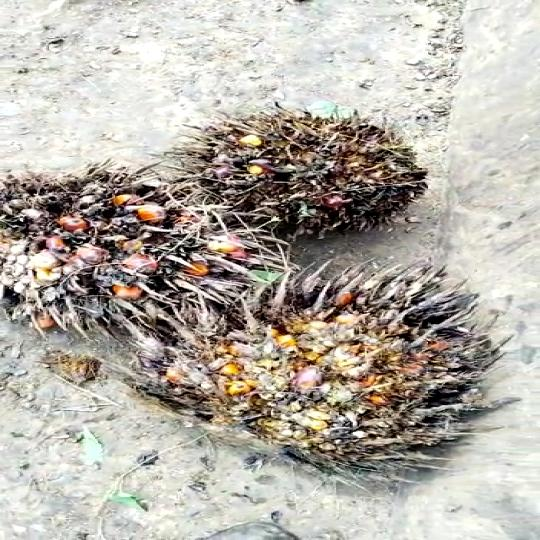terlalu masak: (141, 268, 519, 473), (0, 167, 253, 326), (162, 116, 424, 246)
